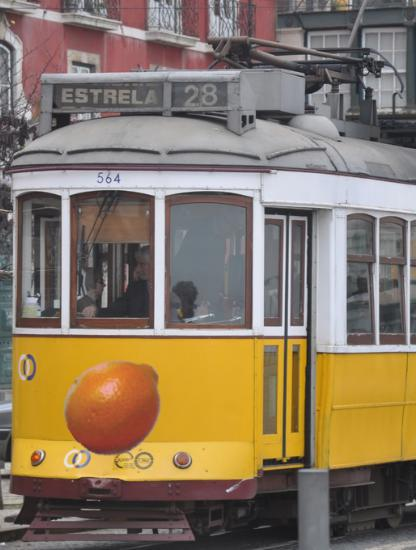Tangelo: (63, 353, 169, 459)
